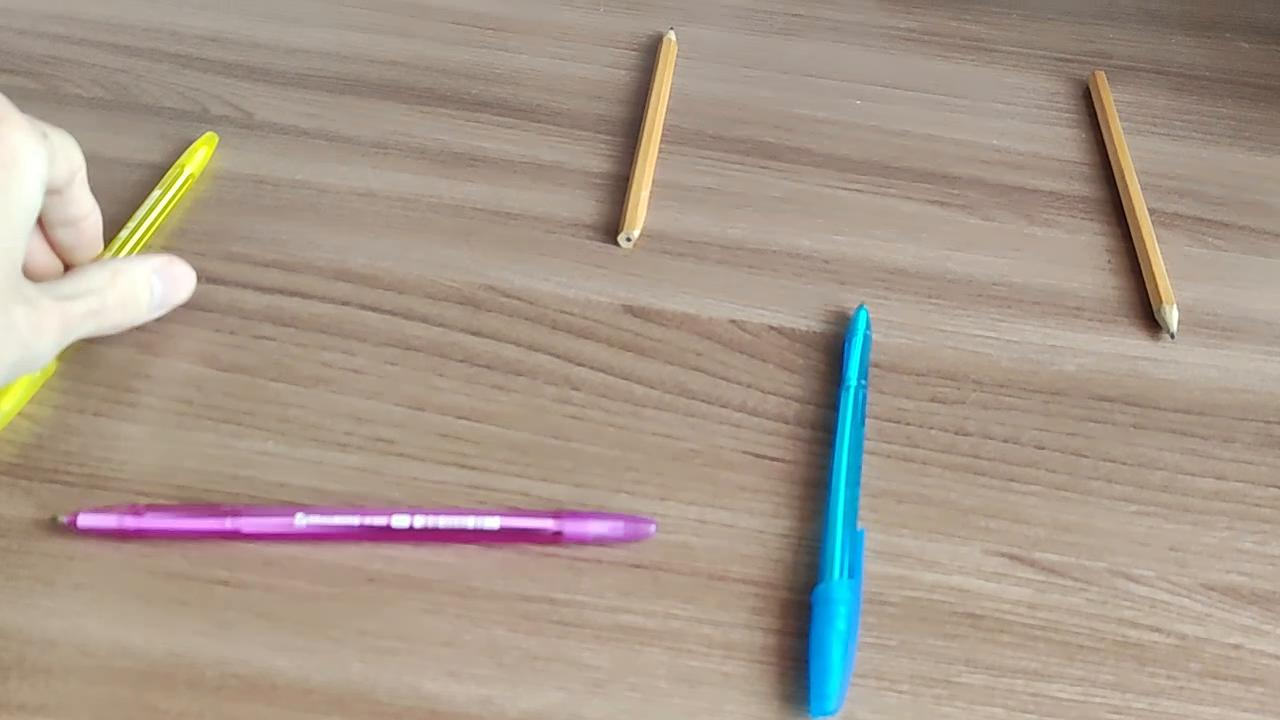pen: (0, 123, 229, 434), (797, 299, 876, 720), (49, 499, 671, 550)
pencil: (1086, 65, 1183, 348), (613, 23, 690, 252)
